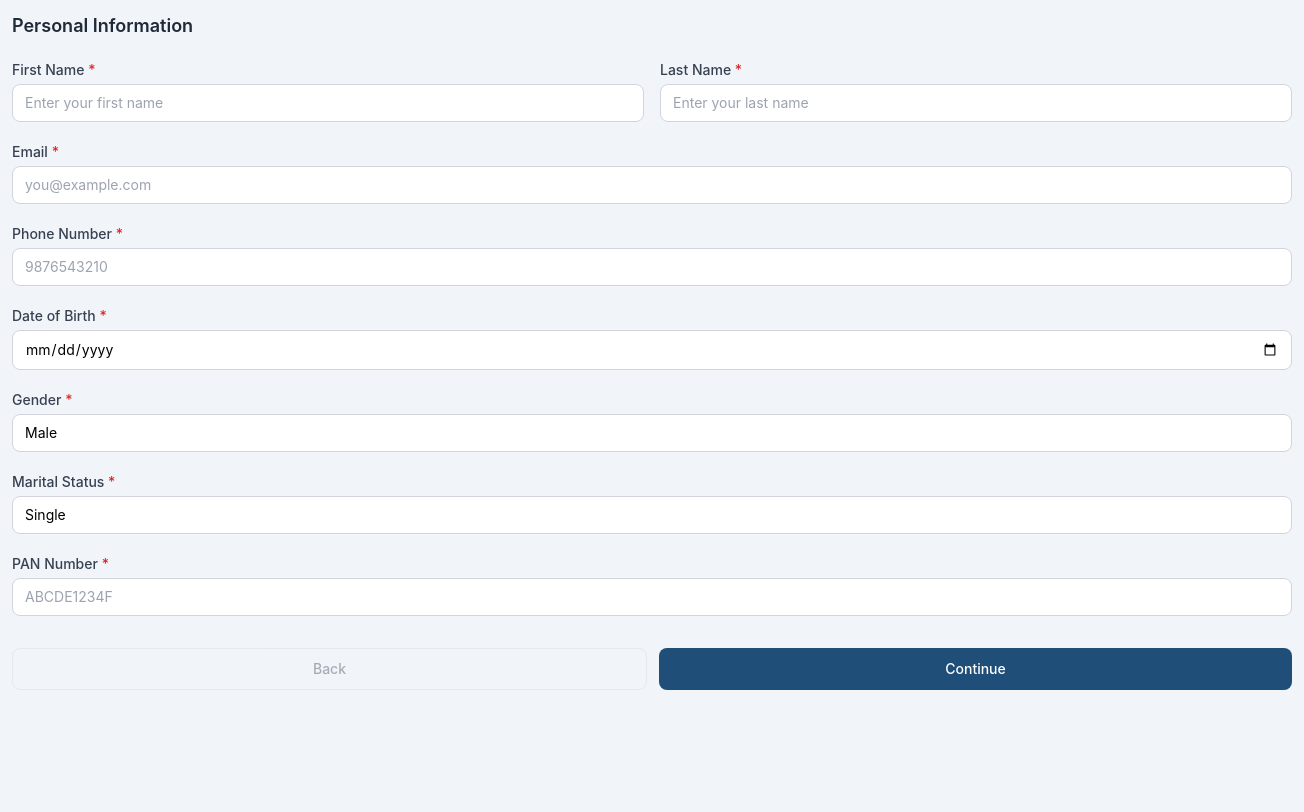
Test: PersonalInfo component › shows validation errors when submitted empty
What coordinates should you click on to do the following:
click the button "Continue"
I would click on:
 (976, 669)
Its box is [659,648,1292,690].
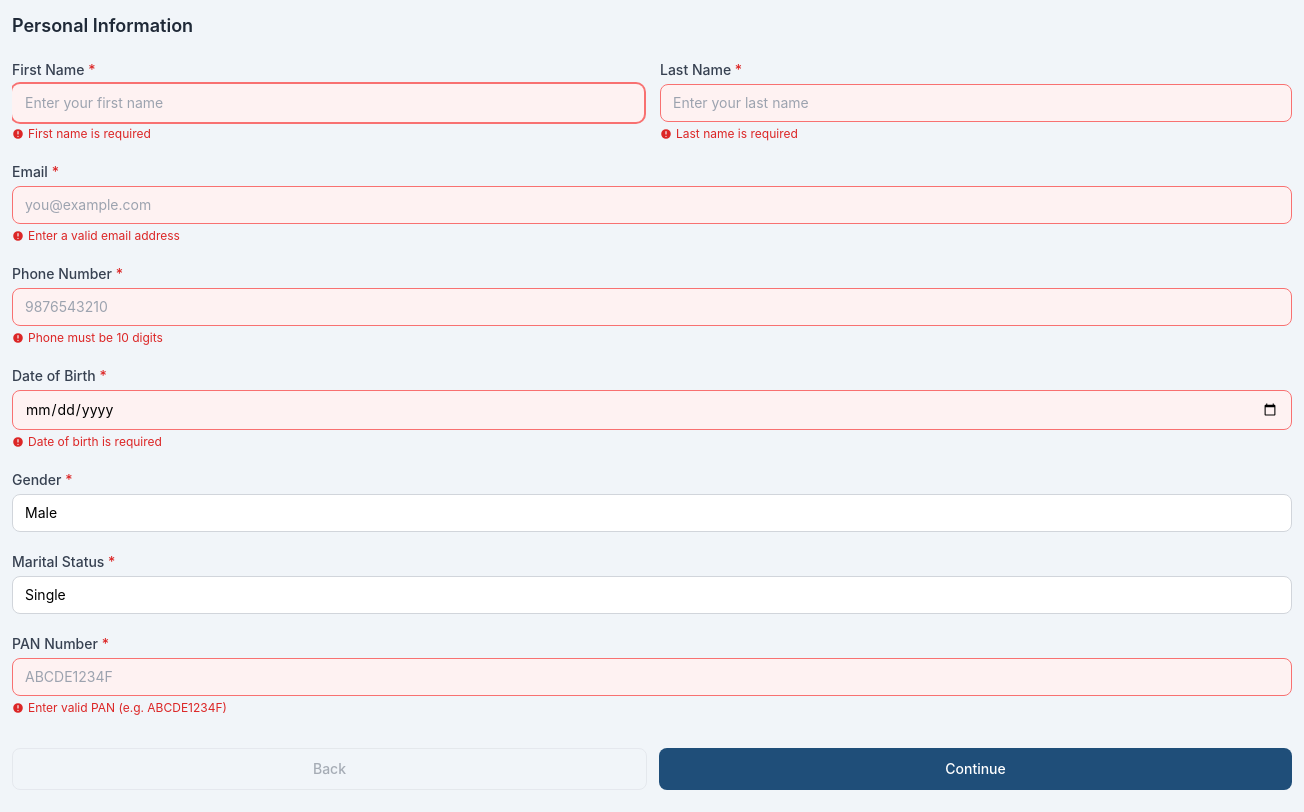
Expected: the message "First name is required" is shown, [12,126,151,141]
